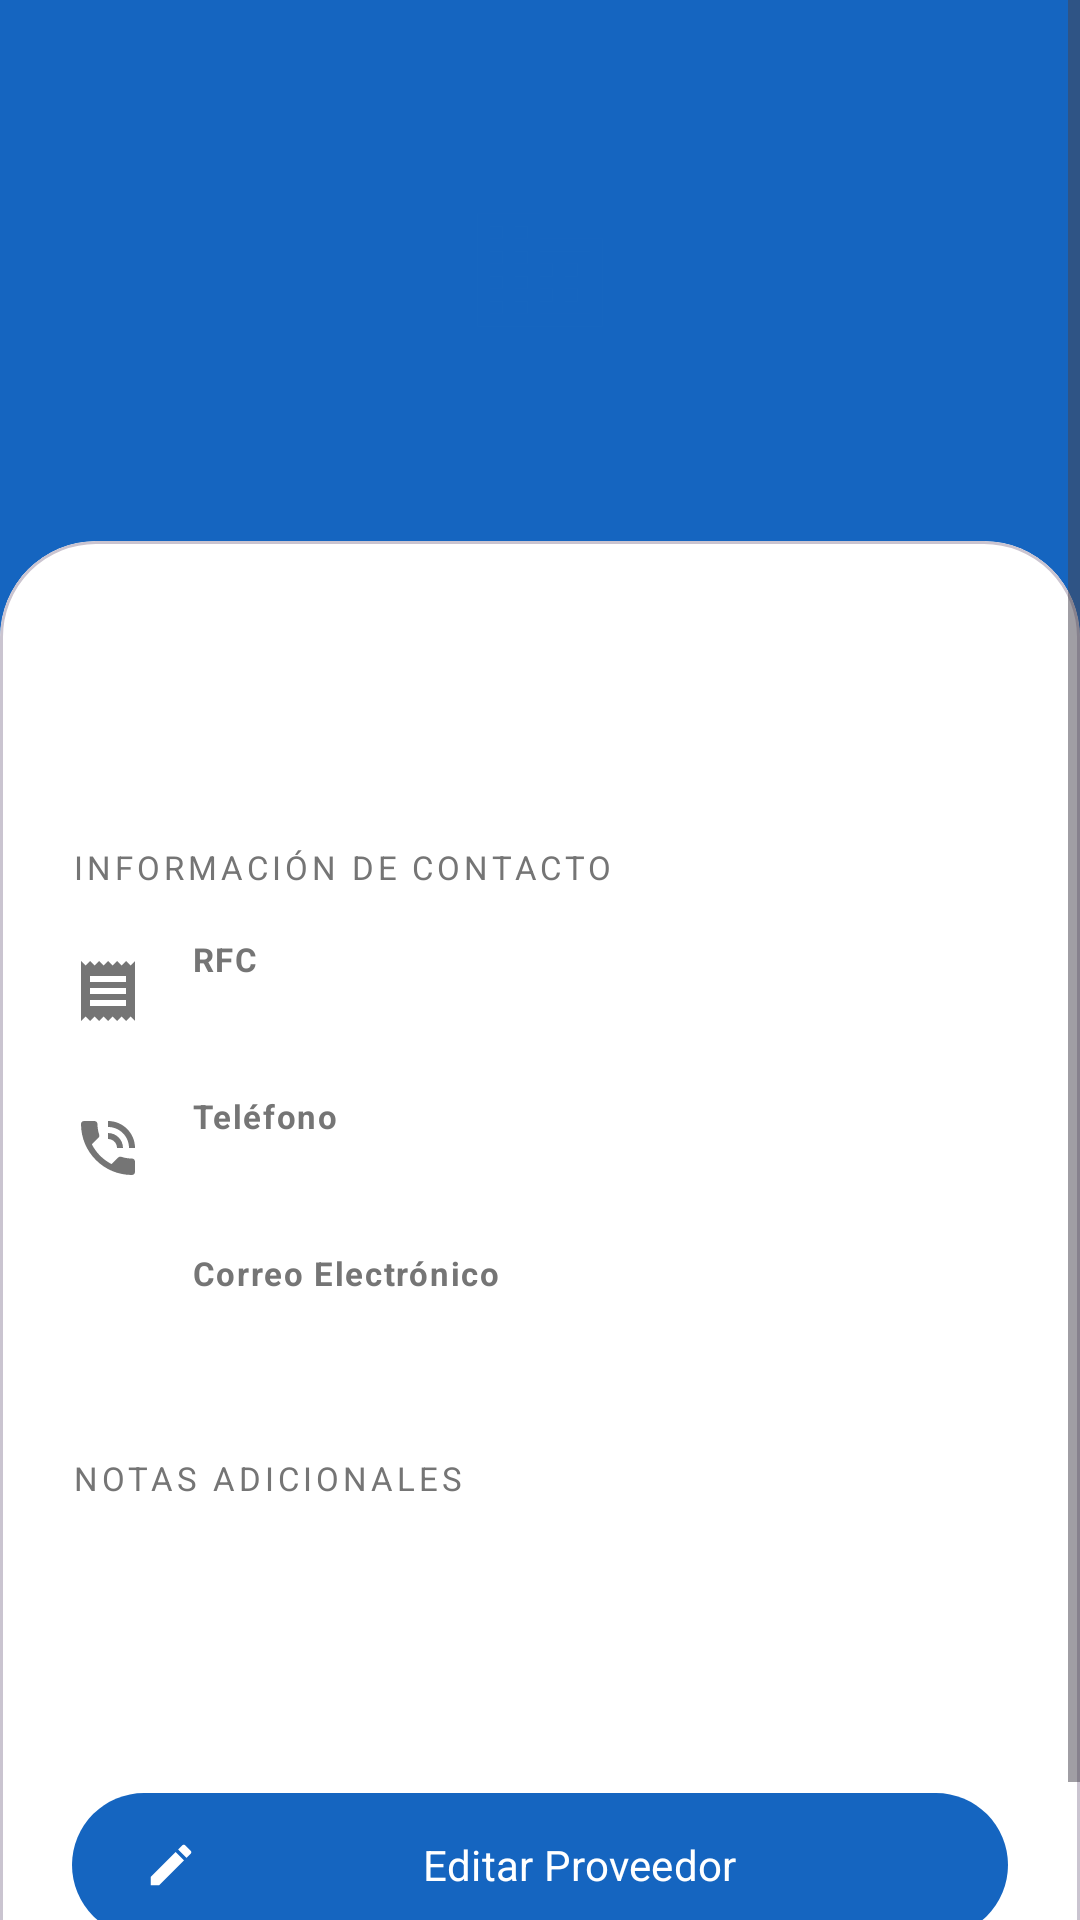

Point at icon controls on the screen. Image size 1080w x 1920h, points as (x,y).
phone: (108,1148)
receipt: (108,991)
